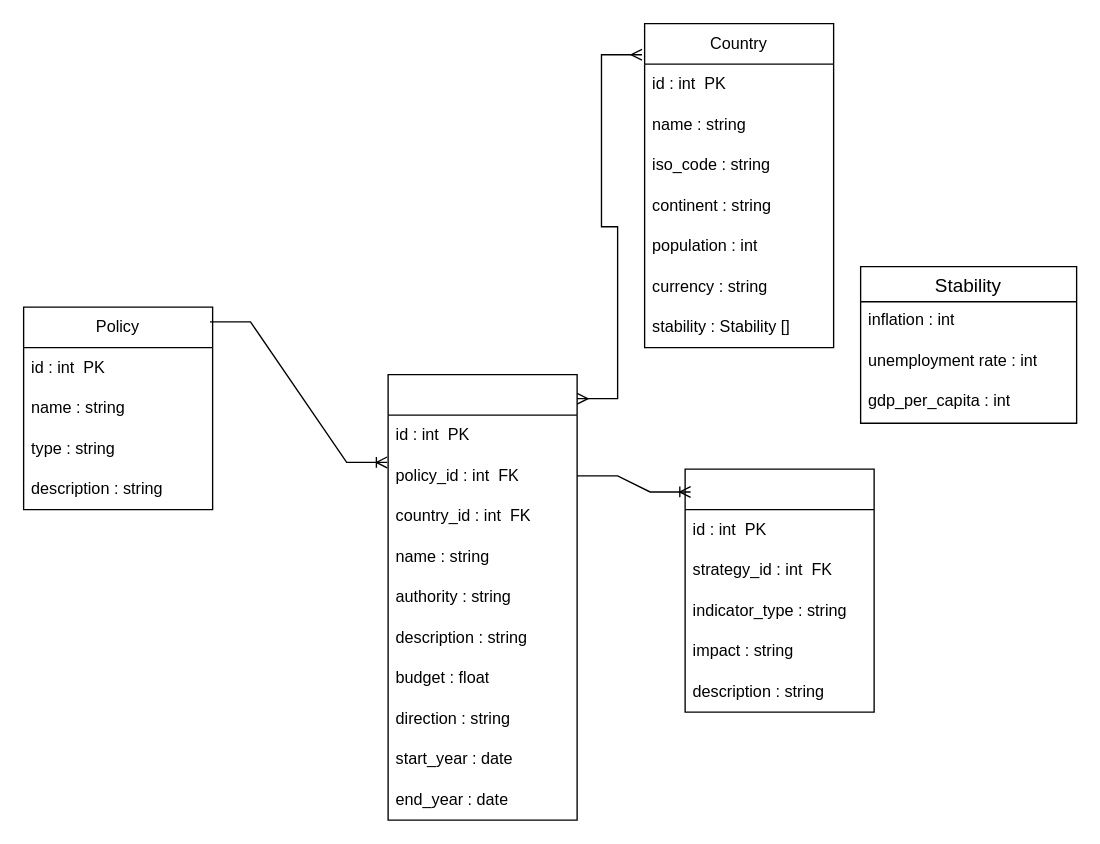
Some shapes in this 1100 by 844 pixel diagram are drawn without their labels. Here are the shapes that lost their labels. From the top down, the box of each, then its label:
(387, 373, 577, 820): Strategy
(684, 468, 874, 712): Strategy_Effect
